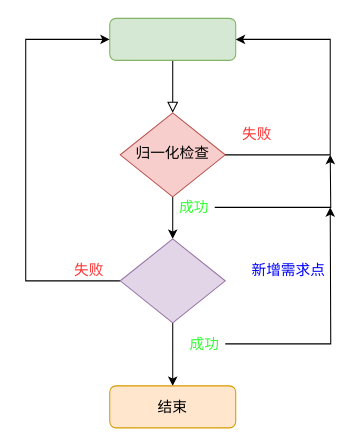
This 358x446 diagram has some shape labels left out. Here are the shapes that lost their labels. From the top down, the centre of each, then its label:
the point at 172,38: 开始
the point at 172,280: 归一化
